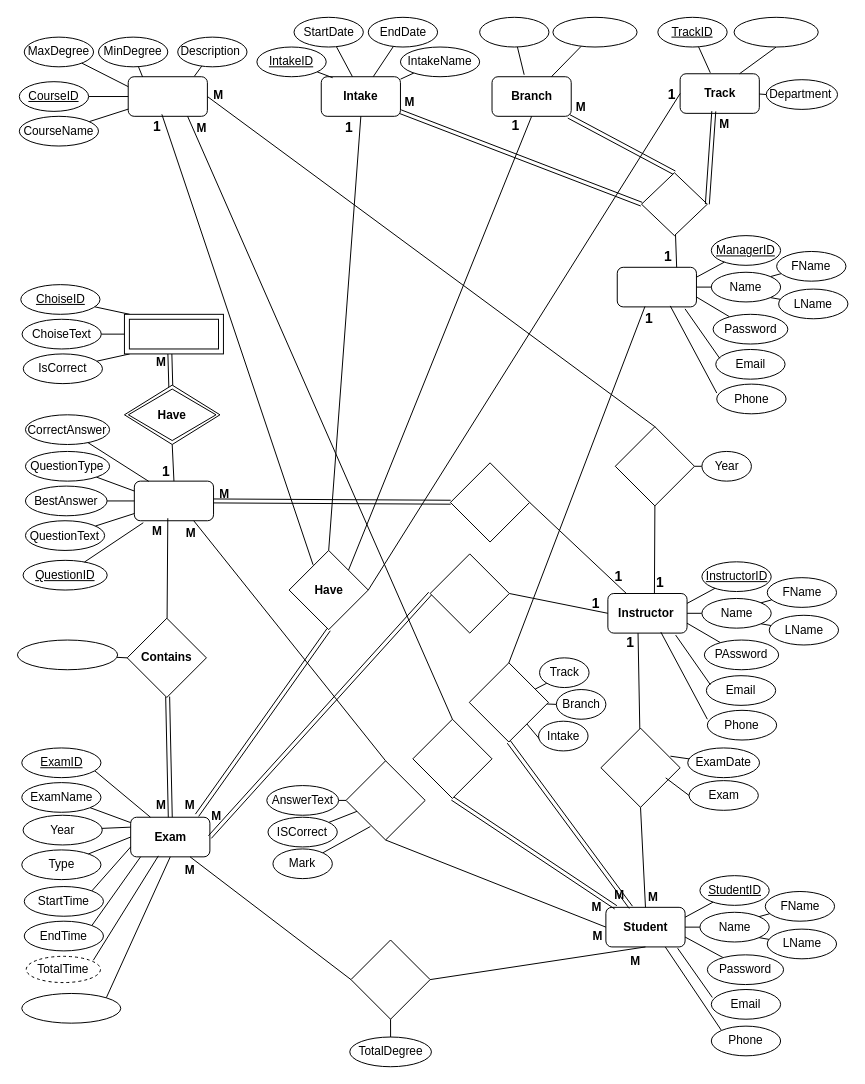
This 865x1084 diagram has some shape labels left out. Here are the shapes that lost their labels. From the top down, the centre of each, then its label:
[514,31]: BranchID
[594,31]: BranchName
[775,31]: TrackName
[167,96]: Course
[674,204]: Manage
[656,286]: Manager
[173,333]: Choice
[654,466]: Teach
[173,500]: Question
[489,502]: Create
[469,593]: Make
[67,654]: QuestionDegree
[508,702]: Add
[452,758]: Register
[640,767]: Select
[385,800]: Answering
[390,979]: Examine
[71,1007]: AllowReattemps
